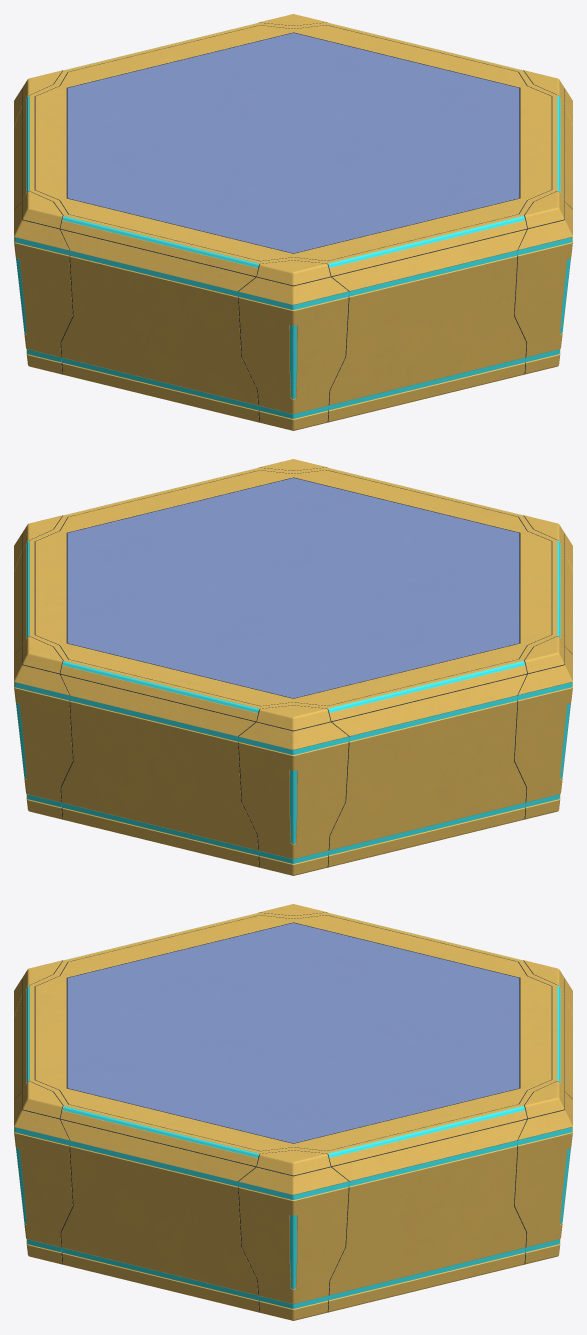
The model's file is PlatformB.fbx.
3 renders of one model, top to bottom at view 1: azimuth 30°, elevation 25°; view 2: azimuth 150°, elevation 25°; view 3: azimuth 270°, elevation 25°, orthographic.
Parts seen in each view (by area): view 1: SM_VA_PlatformB.mo; view 2: SM_VA_PlatformB.mo; view 3: SM_VA_PlatformB.mo.
Boxes of the visible parts, x1,y1,x2,y2 form: SM_VA_PlatformB.mo: [14, 14, 572, 430]; SM_VA_PlatformB.mo: [14, 459, 572, 875]; SM_VA_PlatformB.mo: [14, 904, 572, 1320].
Size of the model in its own units: 45.9 by 12.5 by 39.81.
